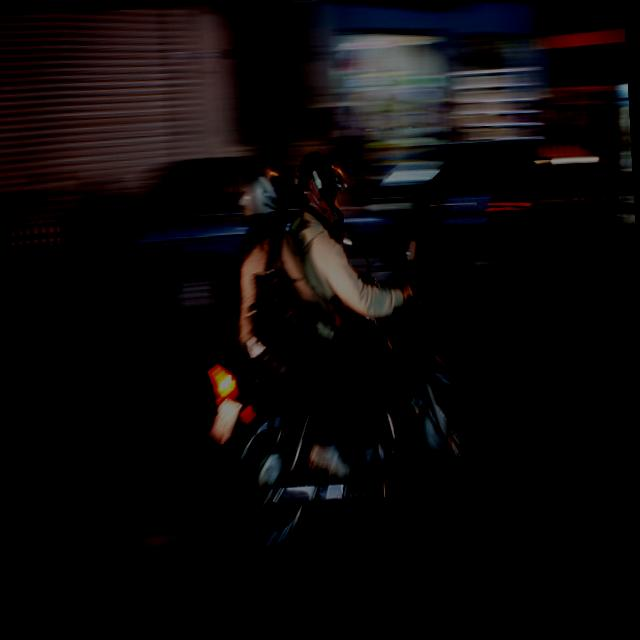Vehicle: (195, 220, 476, 562), (82, 144, 426, 331), (356, 134, 636, 277)
